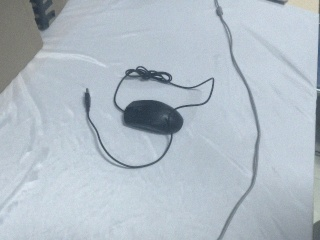box: (0, 2, 45, 100)
mouse: (122, 98, 185, 136)
